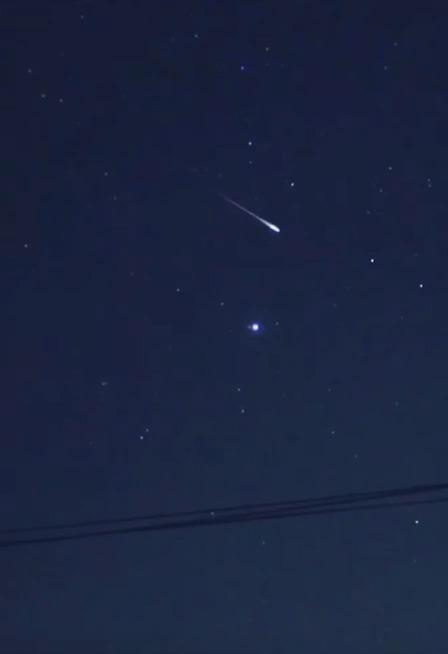meteorite: (207, 177, 293, 244)
